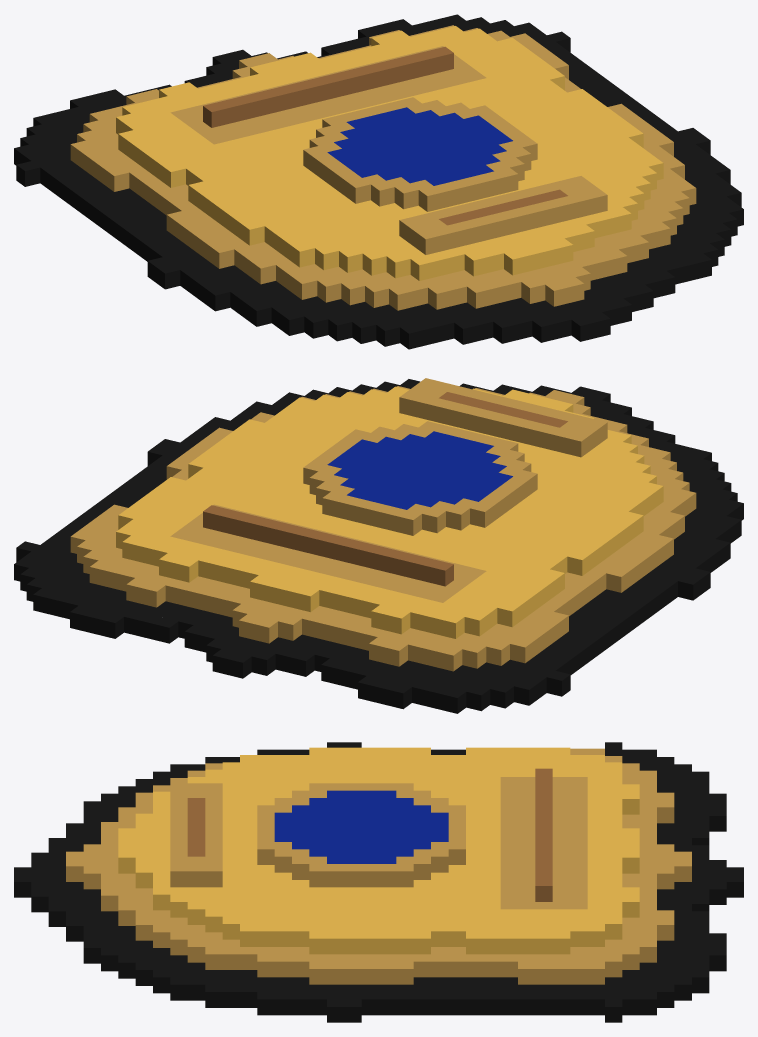
The model's file is badge_detective.glb.
3 renders of one model, top to bottom at view 1: azimuth 30°, elevation 25°; view 2: azimuth 150°, elevation 25°; view 3: azimuth 270°, elevation 25°, orthographic.
Parts seen in each view (by area): view 1: badge_detective:compound; view 2: badge_detective:compound; view 3: badge_detective:compound.
Boxes of the visible parts, x1,y1,x2,y2 form: badge_detective:compound: (14,14,743,349); badge_detective:compound: (14,378,743,713); badge_detective:compound: (14,742,743,1022).
Size of the model in its own units: 0.072 by 0.01 by 0.084.
